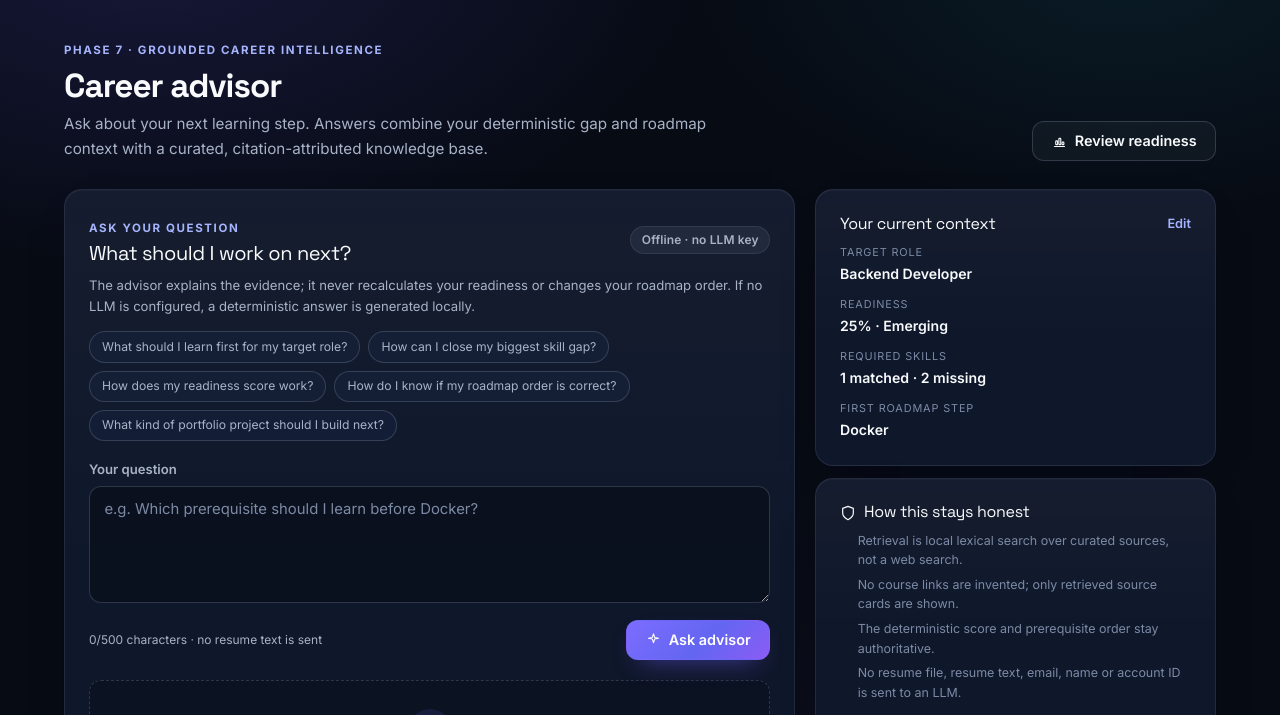
Test case: AdvisorPage › fills a suggested question and reports a validation error for an empty submit
Click the button "How can I close my biggest skill gap?": (489, 347) [368, 331, 609, 363]
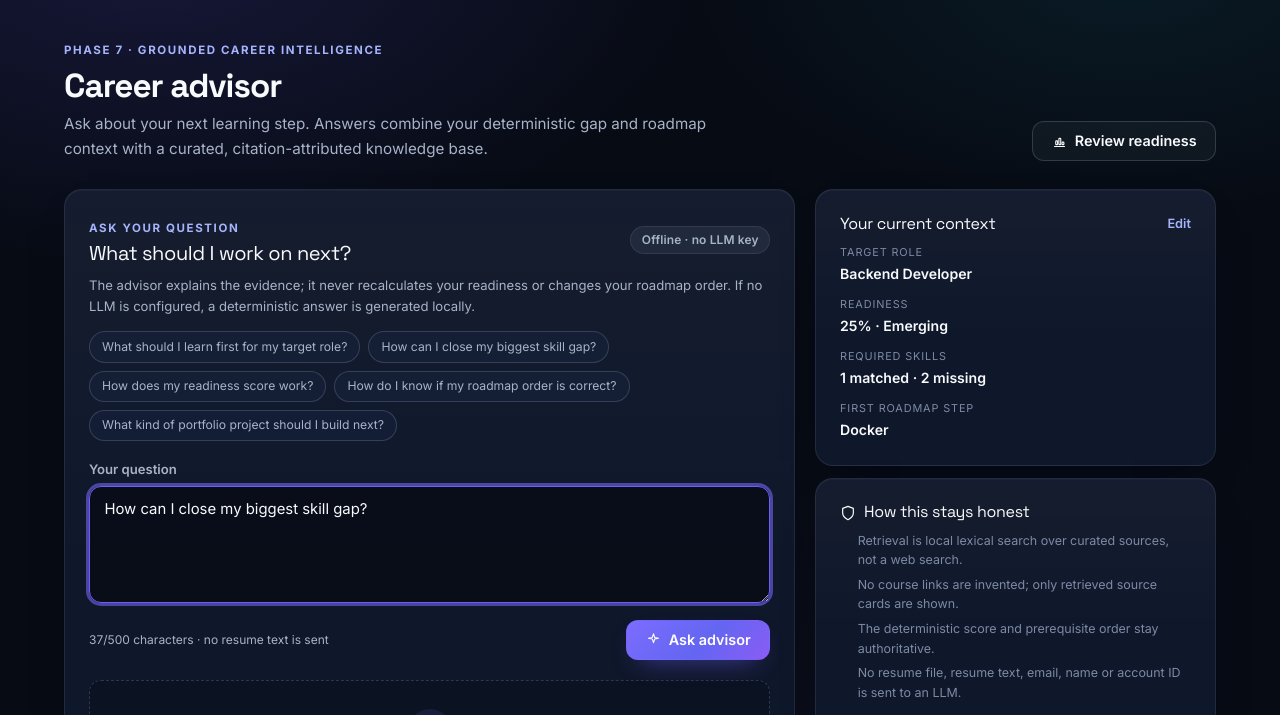
Expected: the text box labelled "Your question" holds "How can I close my biggest skill gap?"
Clear the text box labelled "Your question": (430, 544) [89, 486, 770, 603]
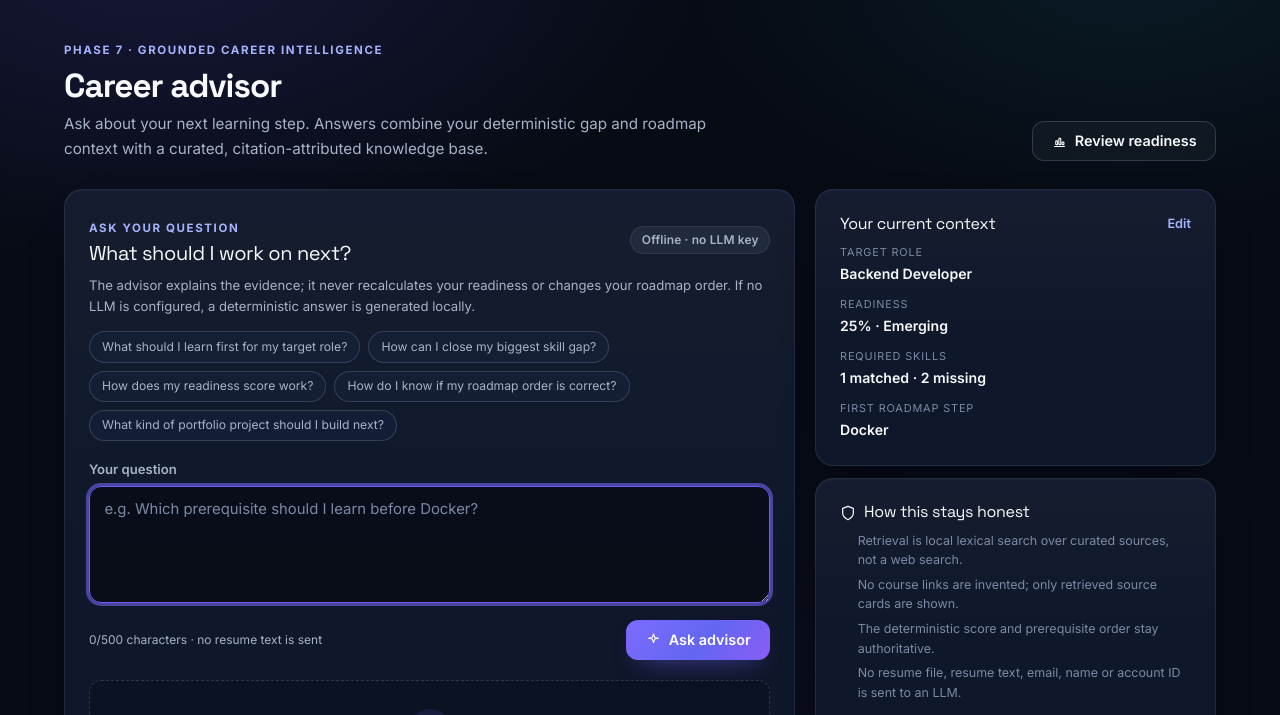
Click the button "Ask advisor": (698, 640) [626, 620, 770, 660]
(page scrolled)
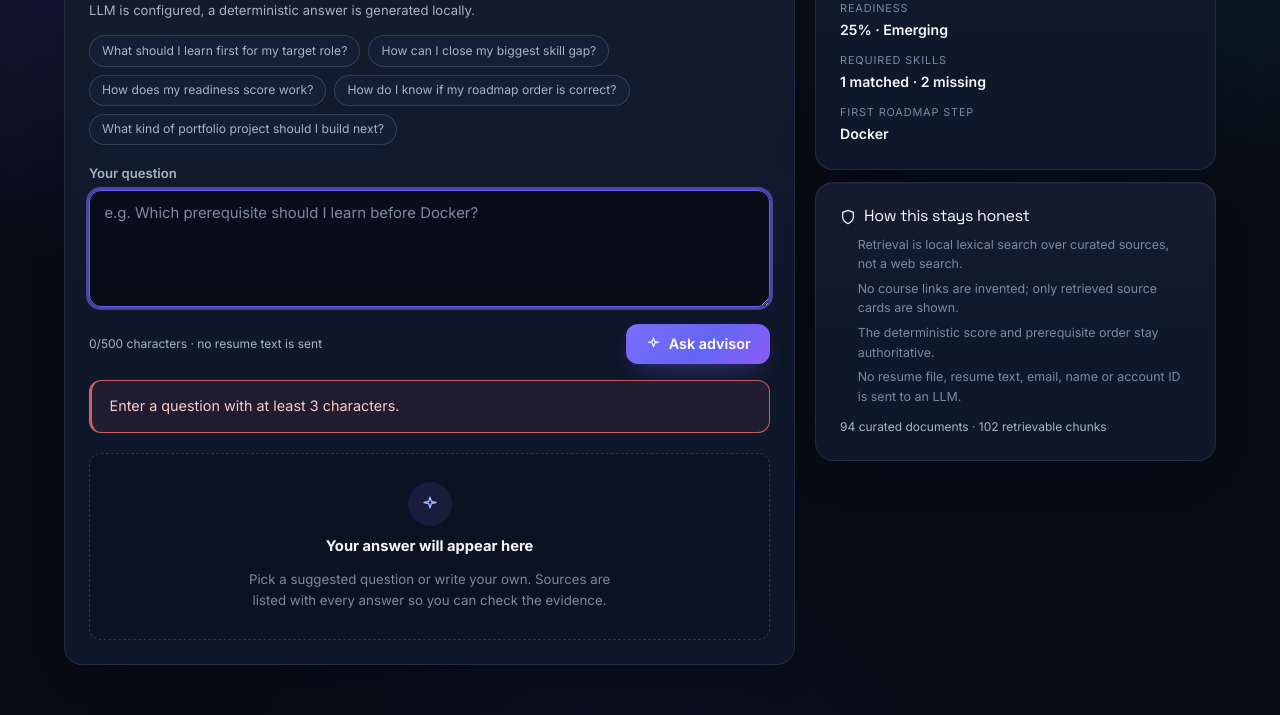
Expected: the message shows "at least 3 characters", [110, 397, 399, 414]
